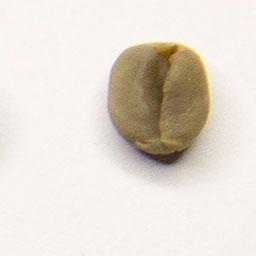peaberry: (103, 38, 214, 159)
